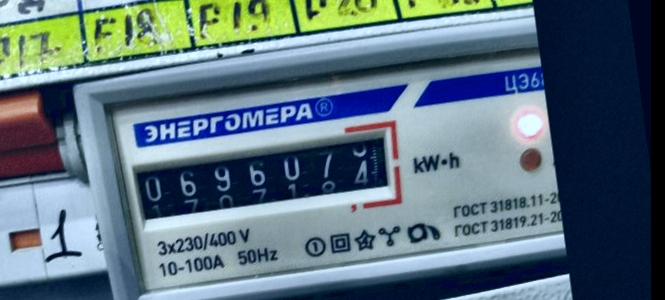0: (139, 171, 163, 204), (278, 150, 301, 182)
4: (347, 157, 369, 187)
6: (172, 166, 198, 198), (244, 157, 266, 187)
7: (313, 147, 334, 179)
9: (209, 162, 231, 193)
screen: (112, 113, 406, 240)
